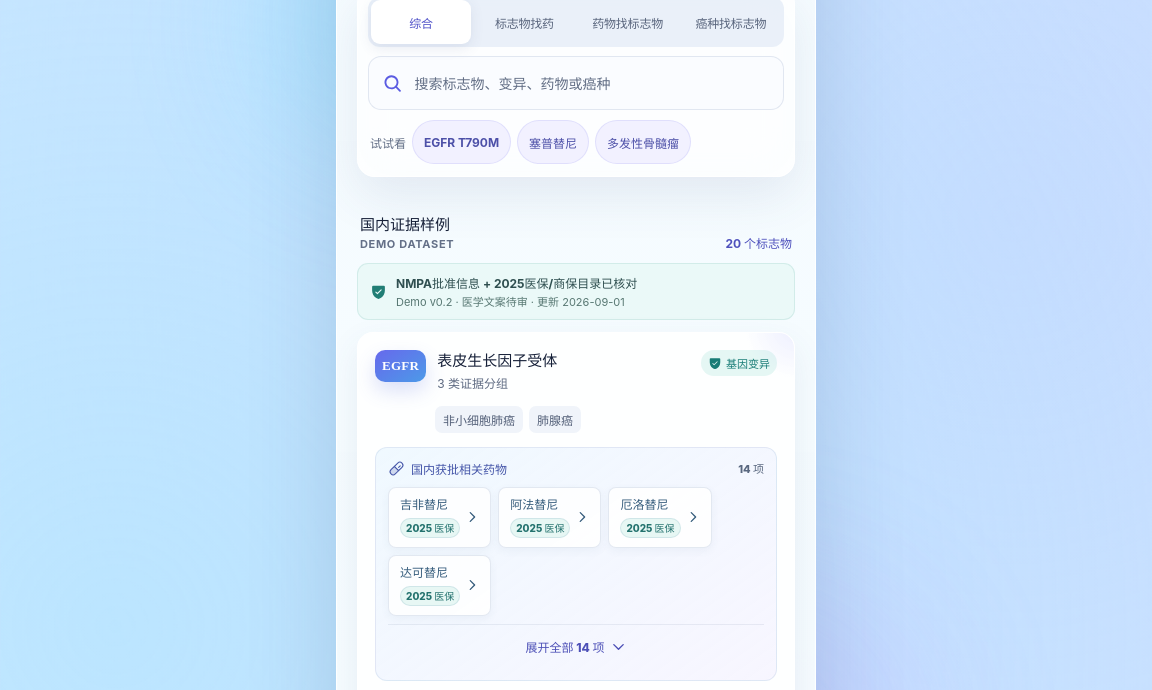
Scenario: Gene lookup app › opens grouped conclusions from every non-drug card area
This screenshot has width=1152, height=690.
(page scrolled)
Click the heading "表皮生长因子受体": (497, 361) [437, 350, 557, 371]
(page scrolled)
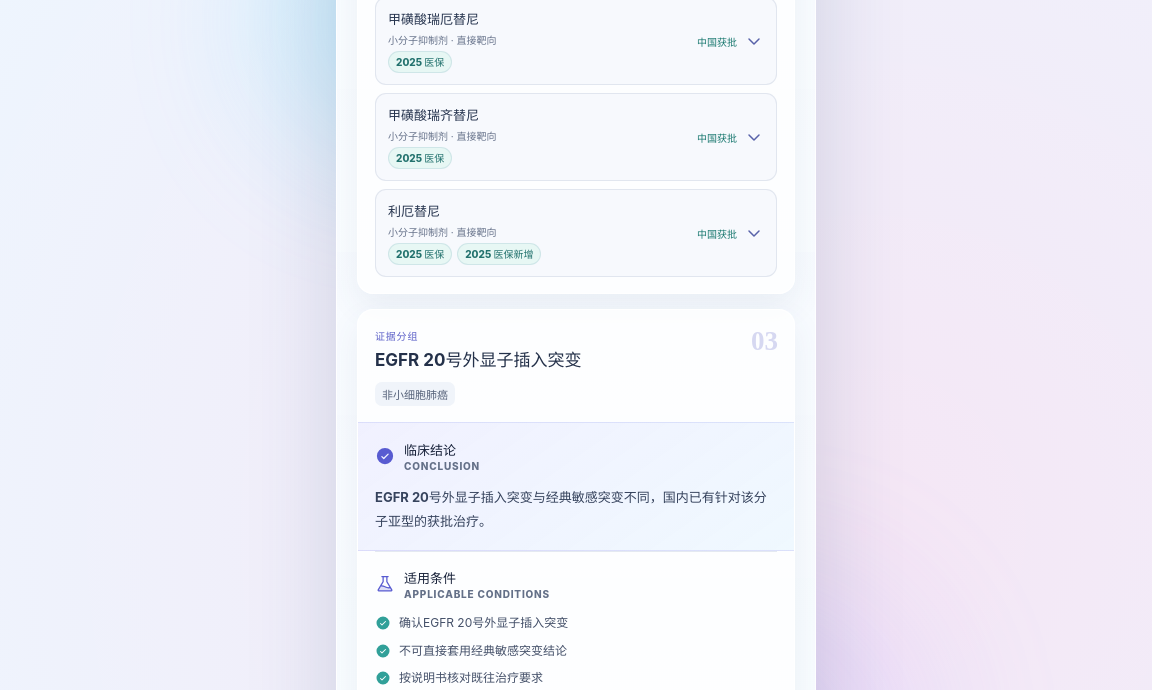
expect the heading "EGFR 20号外显子插入突变" is shown: met, box [375, 350, 581, 370]
expect the text "临床结论" is shown 3 times: met
